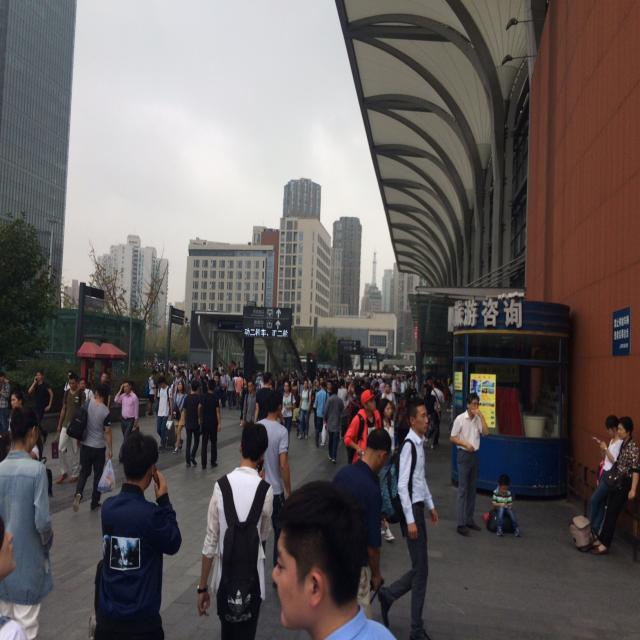body: (271, 477, 398, 640), (84, 427, 180, 640), (375, 396, 450, 639), (195, 417, 276, 639), (0, 402, 56, 640), (331, 427, 390, 620), (253, 391, 291, 588), (587, 415, 640, 556), (449, 391, 488, 538), (72, 384, 113, 513), (588, 415, 624, 540), (52, 370, 88, 485), (0, 512, 25, 639), (342, 390, 382, 466), (377, 396, 397, 542), (196, 378, 222, 470), (27, 368, 54, 445), (115, 382, 140, 463), (493, 472, 522, 539), (321, 385, 345, 463), (182, 378, 202, 469), (253, 372, 285, 425), (154, 376, 174, 452), (172, 379, 188, 454), (423, 386, 440, 451), (314, 380, 330, 448), (343, 385, 366, 431), (296, 379, 313, 441), (430, 379, 445, 448), (0, 370, 14, 434), (280, 381, 296, 436), (242, 381, 260, 427), (154, 371, 168, 419), (142, 358, 200, 368), (316, 368, 370, 378), (147, 369, 158, 418), (381, 382, 398, 412), (311, 381, 321, 432), (239, 376, 249, 426), (77, 378, 96, 402), (100, 372, 111, 409), (226, 372, 236, 411), (212, 372, 223, 406), (337, 377, 348, 407), (220, 369, 228, 408), (446, 373, 454, 412), (372, 381, 381, 415), (190, 371, 202, 396), (254, 371, 263, 404), (173, 370, 185, 393), (236, 372, 243, 411), (10, 391, 24, 410), (199, 368, 209, 394), (228, 360, 236, 392), (390, 373, 398, 404), (400, 376, 408, 407), (300, 375, 310, 397), (408, 381, 418, 402), (277, 371, 287, 388), (190, 366, 199, 384), (175, 369, 182, 391), (378, 378, 387, 394), (377, 375, 383, 399), (371, 375, 378, 394), (347, 379, 355, 395), (325, 381, 333, 397), (234, 362, 242, 378), (273, 373, 280, 391), (370, 369, 390, 375), (231, 362, 238, 378), (157, 363, 165, 377), (217, 361, 224, 376), (287, 373, 295, 386), (212, 367, 220, 380), (258, 374, 264, 389), (180, 366, 185, 376), (202, 361, 206, 368)
